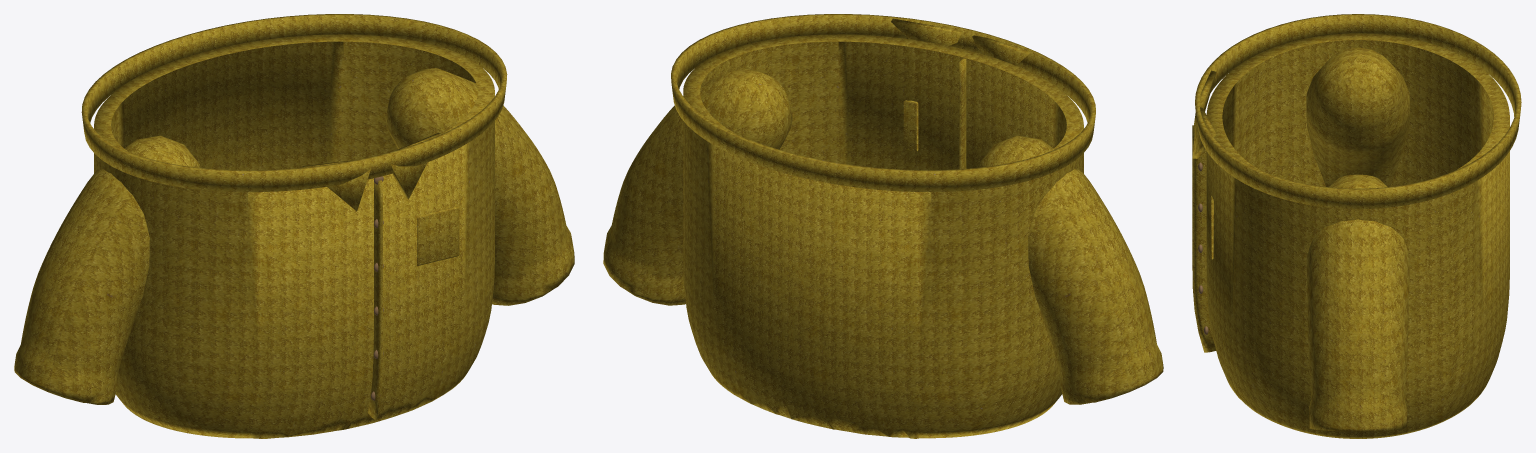
The model's file is buttonshirt4.fbx.
3 views of the same model, side by side, from view 1: azimuth 30°, elevation 25°; view 2: azimuth 150°, elevation 25°; view 3: azimuth 270°, elevation 25° (orthographic). The views are drawn at different scales.
Parts seen in each view (by area): view 1: buttonshirt4; view 2: buttonshirt4; view 3: buttonshirt4.
Part boxes in pixels (box(x1,y1,x2,y2)): buttonshirt4: box(14, 14, 574, 438); buttonshirt4: box(603, 14, 1163, 438); buttonshirt4: box(1192, 14, 1521, 438).
Bounding box in the file's own units: 1.26 × 0.6203 × 0.7035.
Materials: 2 (1 with a texture image).
